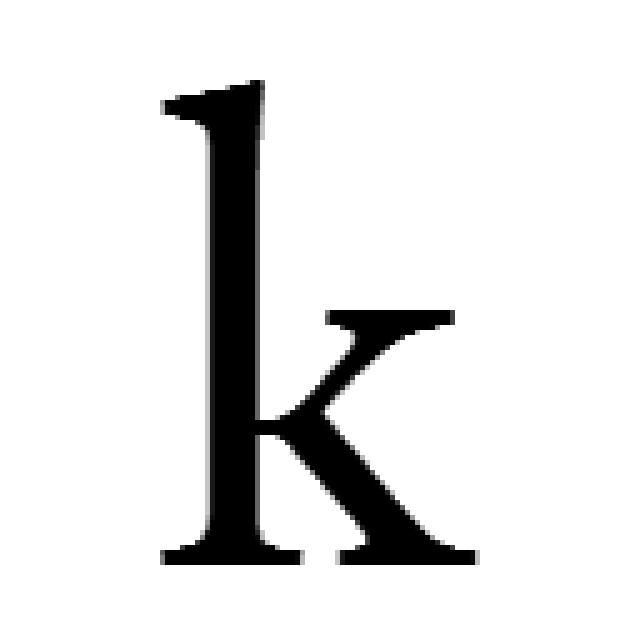K: (141, 78, 485, 572)
